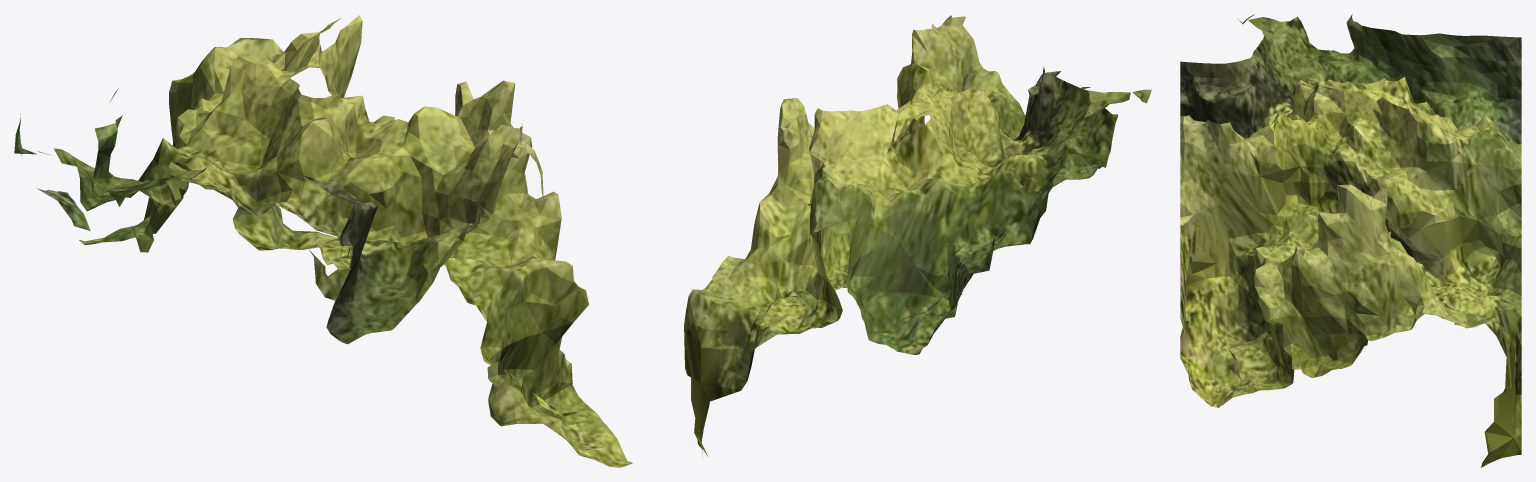
3 views of the same model, side by side, from view 1: azimuth 30°, elevation 25°; view 2: azimuth 150°, elevation 25°; view 3: azimuth 270°, elevation 25° (orthographic). The views are drawn at different scales.
Bounding box in the file's own units: 5.9 × 5.9 × 5.9.
Materials: 6 (6 with a texture image).
